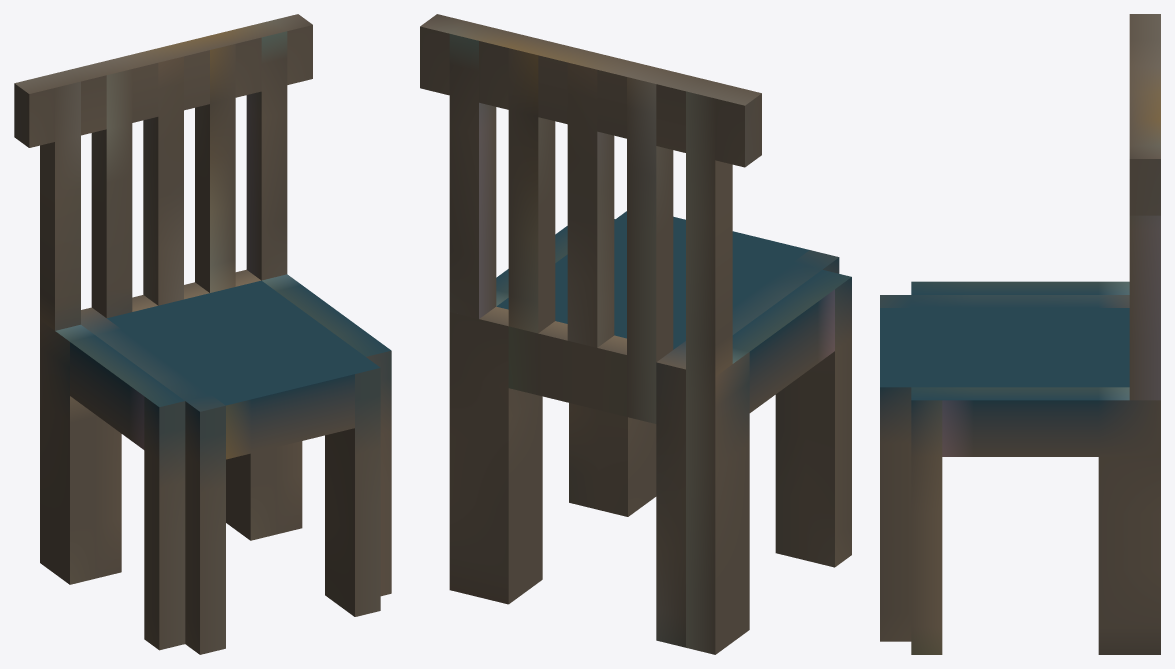
Rendered from ChairDarkBrownWithBlueSeat_02.fbx.
3 views of the same model, side by side, from view 1: azimuth 30°, elevation 25°; view 2: azimuth 150°, elevation 25°; view 3: azimuth 270°, elevation 25° (orthographic). The views are drawn at different scales.
Parts seen in each view (by area): view 1: ChairDarkBrownWithBlueSeat_02; view 2: ChairDarkBrownWithBlueSeat_02; view 3: ChairDarkBrownWithBlueSeat_02.
Boxes of the visible parts, <box> form: ChairDarkBrownWithBlueSeat_02: <box>14,14,391,654</box>; ChairDarkBrownWithBlueSeat_02: <box>420,14,851,654</box>; ChairDarkBrownWithBlueSeat_02: <box>880,14,1160,654</box>.
Bounding box in the file's own units: 55 × 45 × 90.
1 material, 1 textured.
